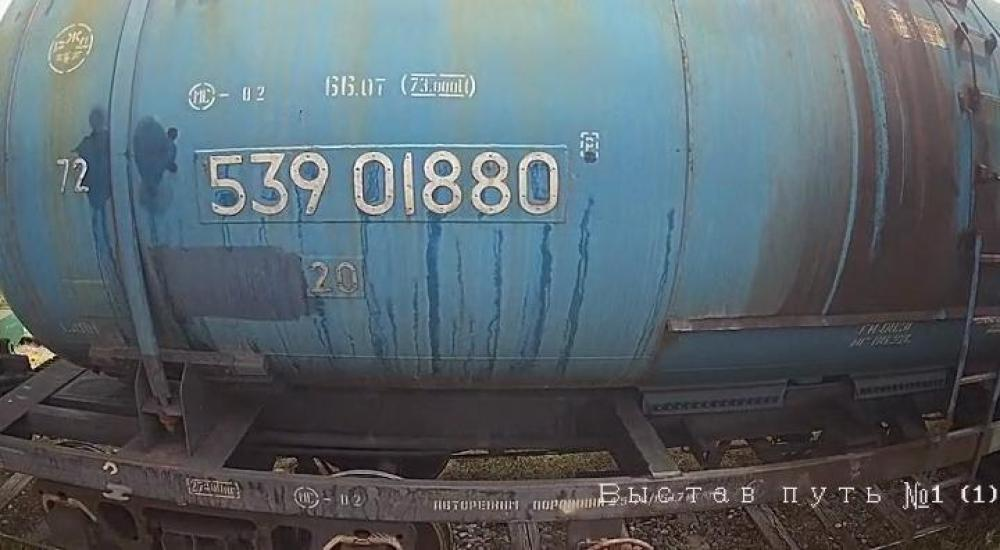Wagon-number: (205, 148, 562, 220)
